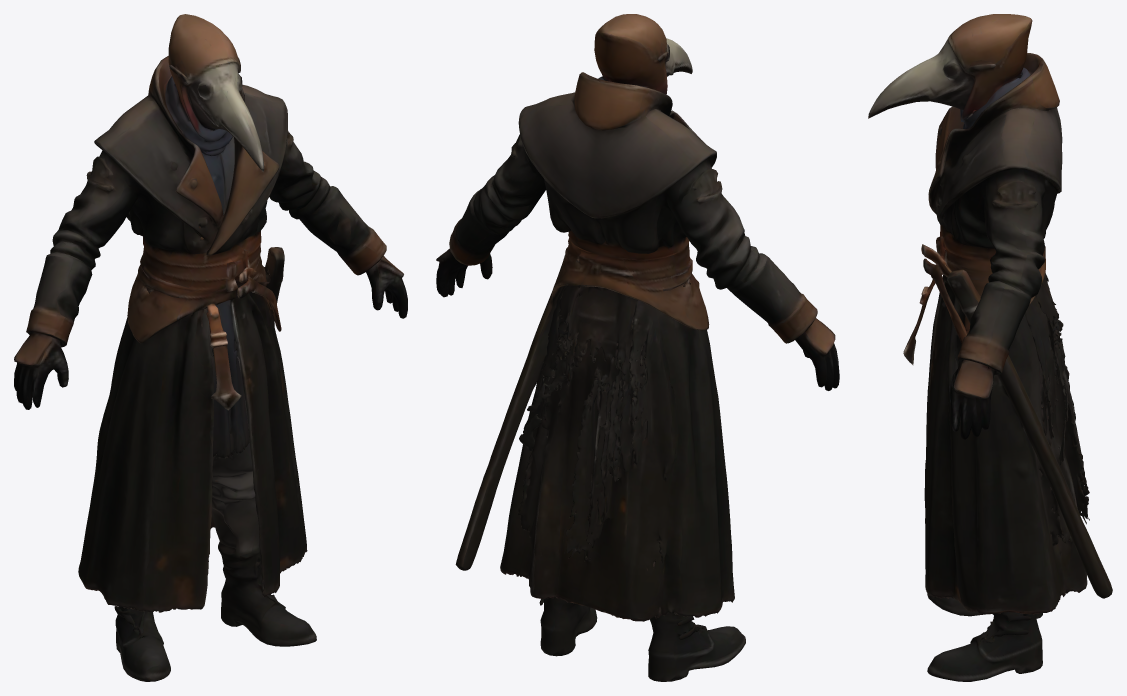
Rendered from plaguedoctor.glb.
3 renders of one model, left to right at view 1: azimuth 30°, elevation 25°; view 2: azimuth 150°, elevation 25°; view 3: azimuth 270°, elevation 25°, orthographic. The views are drawn at different scales.
Parts seen in each view (by area): view 1: world; view 2: world; view 3: world.
Part boxes in pixels (bbox=[...]): world: bbox=[14, 14, 407, 681]; world: bbox=[436, 14, 839, 681]; world: bbox=[868, 14, 1112, 681].
Size of the model in its own units: 0.6514 by 1 by 0.3559.
1 material, 1 textured.
